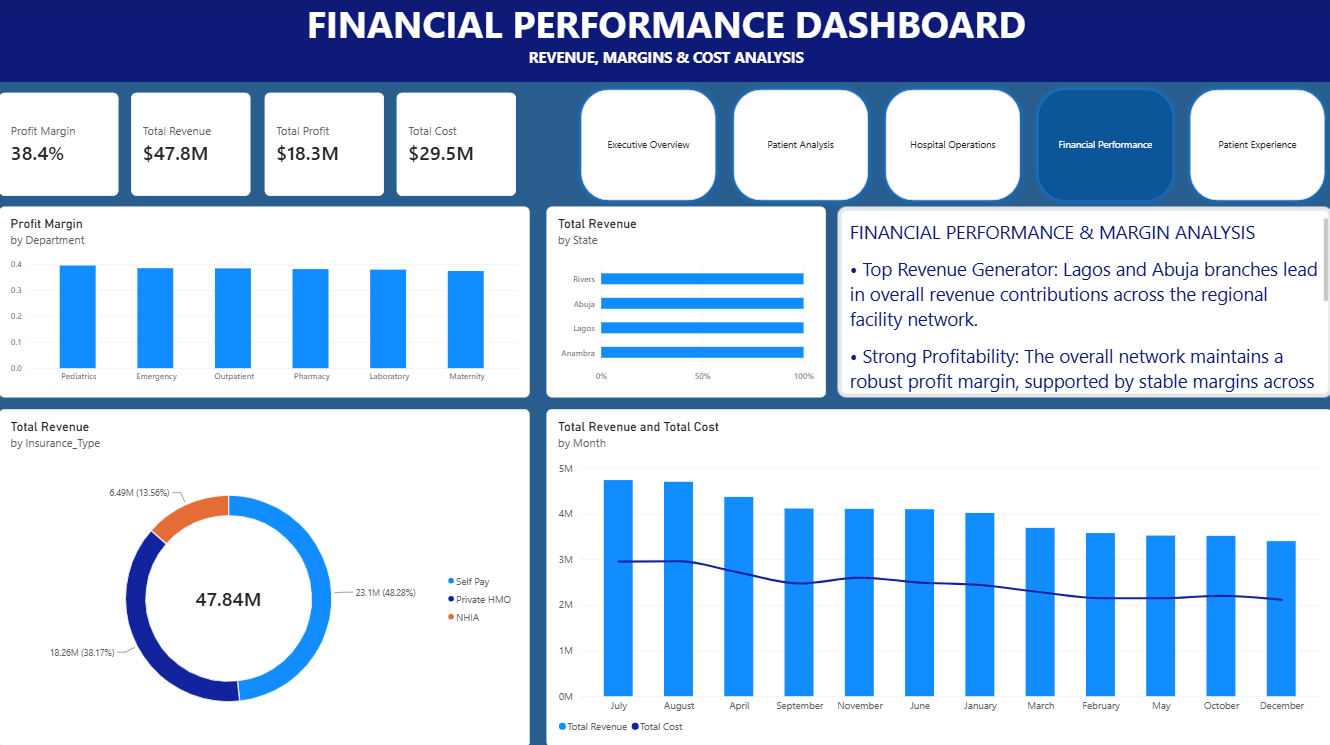

What the dashboard file says about the page in this screenshot:
{"tool":"powerbi","page":{"name":"Financial Performance","canvas":[1920,1080],"ordinal":3},"visuals":[{"type":"pageNavigator","box":[829,122.7,1090.2,177.2],"z":0},{"type":"textbox","box":[0,0,1919.3,120.4],"z":1000},{"type":"cardVisual","fields":{"Data":["_Measure.Total Revenue"]},"box":[190.8,136.3,172.6,149.9],"z":2000},{"type":"cardVisual","fields":{"Data":["_Measure.Total Cost"]},"box":[572.4,136.3,172.6,149.9],"z":3000},{"type":"cardVisual","fields":{"Data":["_Measure.Total Profit"]},"box":[381.6,136.3,172.6,149.9],"z":4000},{"type":"cardVisual","fields":{"Data":["_Measure.Profit Margin"]},"box":[0,136.3,172.6,149.9],"z":5000},{"type":"clusteredColumnChart","fields":{"Category":["Patient_Visits.Department"],"Y":["_Measure.Profit Margin"]},"box":[0,299.8,763.2,274.8],"z":6000},{"type":"lineClusteredColumnComboChart","fields":{"Category":["Date_Table.Month"],"Y":["_Measure.Total Revenue"],"Y2":["_Measure.Total Cost"]},"box":[788.1,590.5,1131.1,488.3],"z":7000},{"type":"donutChart","fields":{"Category":["Patient_Visits.Insurance_Type"],"Y":["_Measure.Total Revenue"]},"box":[0,590.5,763.2,488.3],"z":8000},{"type":"hundredPercentStackedBarChart","fields":{"Category":["Patient_Visits.State"],"Y":["_Measure.Total Revenue"]},"box":[788.1,299.8,402,274.8],"z":9000},{"type":"textbox","box":[1206.1,299.8,713.2,274.8],"z":10000}]}

Visuals, with their boxes in screenshot pixels (x1, y1, x2, y2), scaled from the page's 1920x1080 canvas onto the 1330x745 screenshot:
pageNavigator: select_region(574, 85, 1329, 207)
textbox: select_region(0, 0, 1329, 83)
cardVisual - _Measure.Total Revenue: select_region(132, 94, 252, 197)
cardVisual - _Measure.Total Cost: select_region(397, 94, 516, 197)
cardVisual - _Measure.Total Profit: select_region(264, 94, 384, 197)
cardVisual - _Measure.Profit Margin: select_region(0, 94, 120, 197)
clusteredColumnChart - Patient_Visits.Department x _Measure.Profit Margin: select_region(0, 207, 529, 396)
lineClusteredColumnComboChart - Date_Table.Month x _Measure.Total Revenue: select_region(546, 407, 1329, 744)
donutChart - Patient_Visits.Insurance_Type x _Measure.Total Revenue: select_region(0, 407, 529, 744)
hundredPercentStackedBarChart - Patient_Visits.State x _Measure.Total Revenue: select_region(546, 207, 824, 396)
textbox: select_region(835, 207, 1329, 396)
